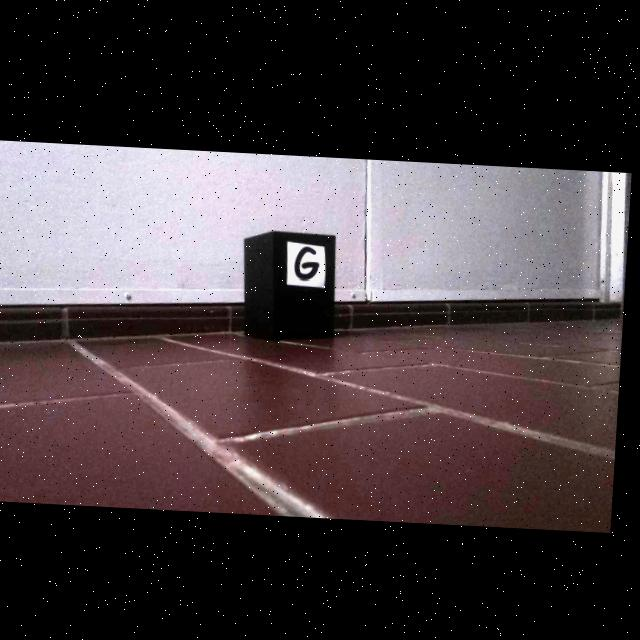G: (298, 244, 322, 276)
